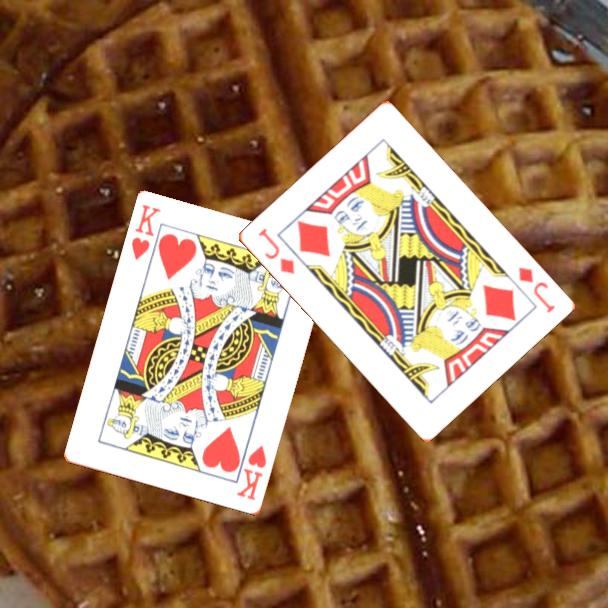d11: (514, 263, 558, 316), (254, 224, 297, 277)
h13: (128, 201, 164, 264), (233, 442, 270, 503)
